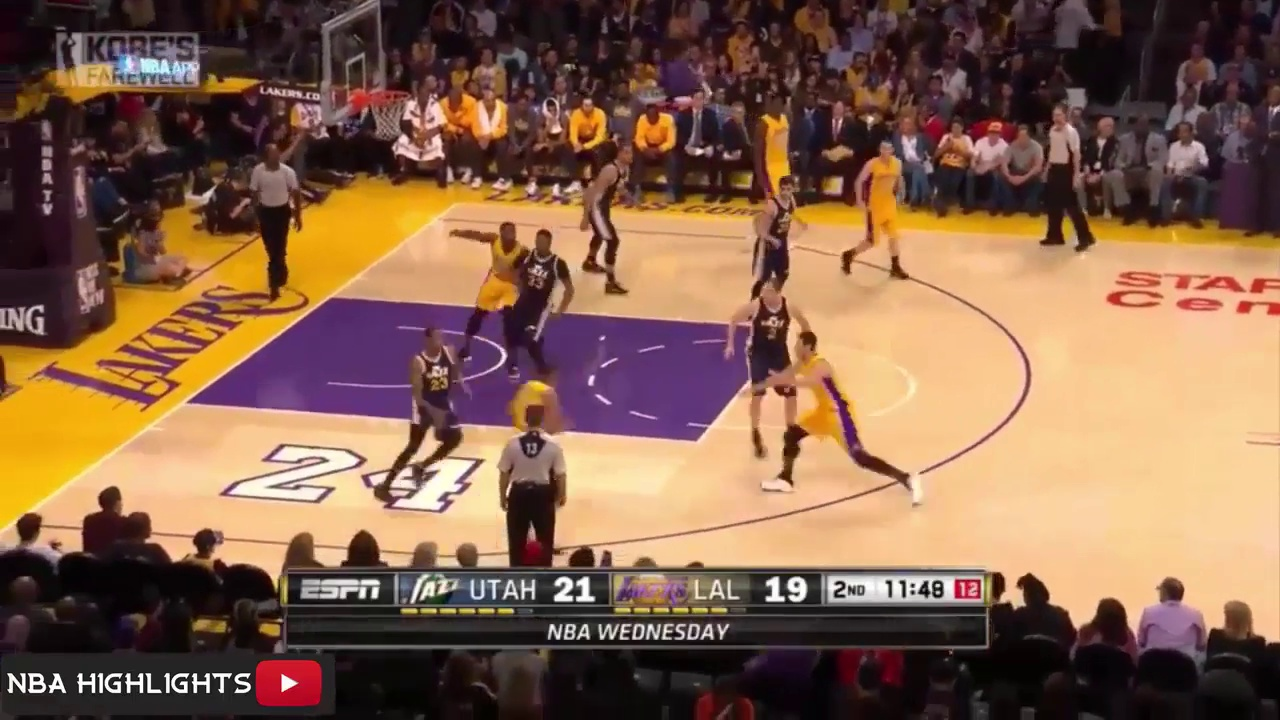jazz: (384, 325, 467, 494), (511, 222, 578, 382), (736, 281, 788, 451), (585, 139, 635, 298), (754, 176, 809, 284)
lakers: (787, 332, 925, 504), (460, 218, 529, 361), (845, 146, 908, 278), (508, 365, 571, 437), (761, 95, 798, 200)
